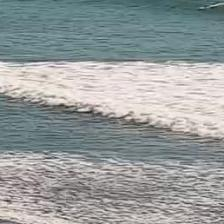surfer: (208, 2, 220, 6)
